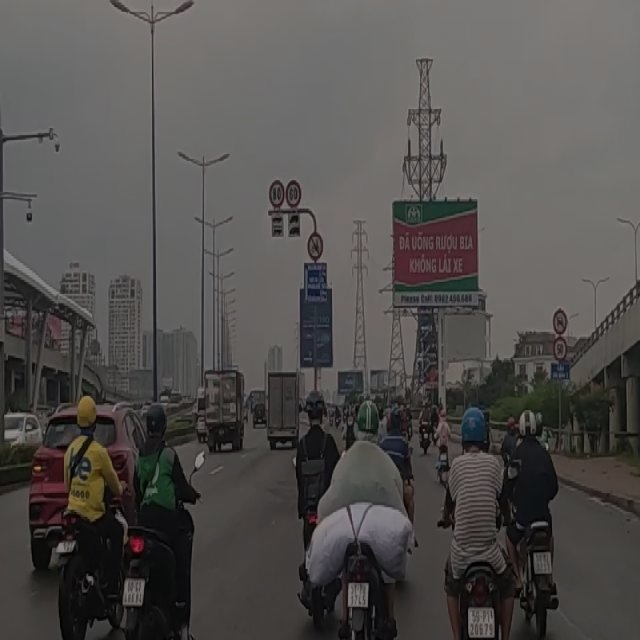P.103a: (553, 311, 567, 335)
P.104: (306, 231, 324, 261)
P.127*50: (554, 337, 568, 363)
P.127*60: (286, 180, 300, 206)
P.127*80: (270, 179, 286, 207)
